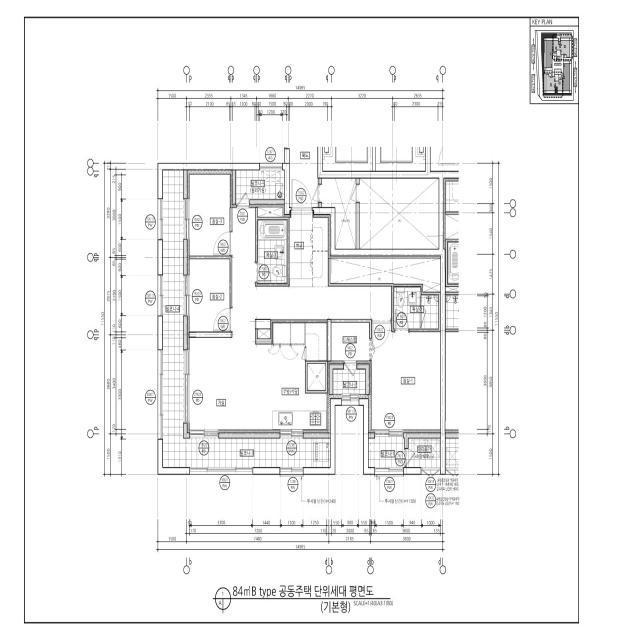space_balconi: (163, 170, 330, 468), (369, 437, 440, 468), (236, 170, 284, 205), (333, 364, 366, 398)
space_bedroom: (369, 323, 440, 433), (187, 170, 232, 256), (187, 259, 230, 332)
space_dressroom: (331, 323, 369, 364)
space_elevator: (323, 147, 373, 171), (376, 147, 425, 171)
space_elevator_hall: (289, 147, 318, 207)
space_front: (289, 211, 330, 286)
space_kitchen: (272, 323, 330, 433)
space_living_room: (187, 208, 392, 433)
space_other: (360, 178, 439, 249), (330, 256, 440, 292), (322, 178, 356, 249), (307, 364, 326, 390), (258, 205, 284, 217)
space_toilet: (257, 220, 287, 283), (394, 287, 439, 329)
